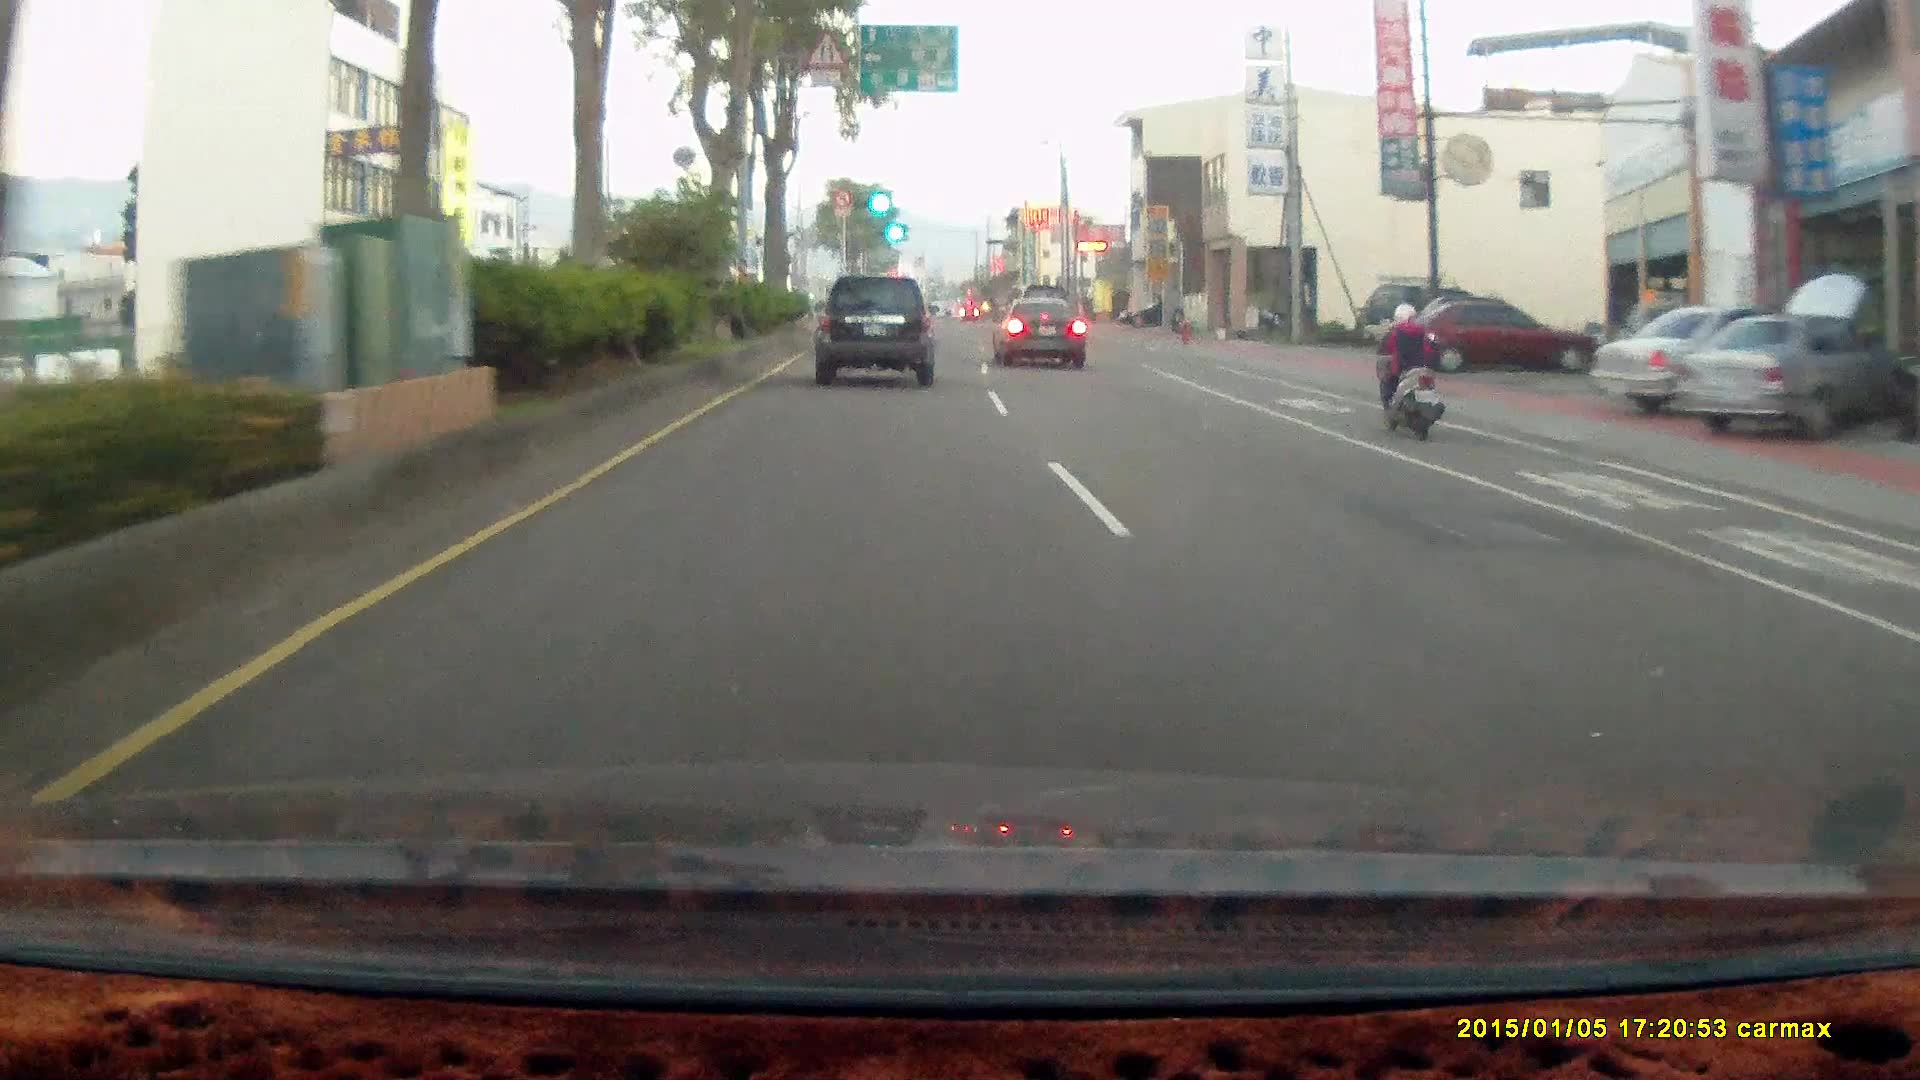rider: (1361, 289, 1457, 453), (1371, 300, 1444, 439)
vehicle: (1672, 312, 1903, 440), (1590, 304, 1823, 419), (1390, 297, 1596, 378), (1388, 294, 1600, 371), (812, 273, 941, 388), (814, 275, 937, 389), (1358, 272, 1481, 353), (993, 297, 1089, 368), (991, 295, 1086, 367), (1117, 301, 1184, 328)
